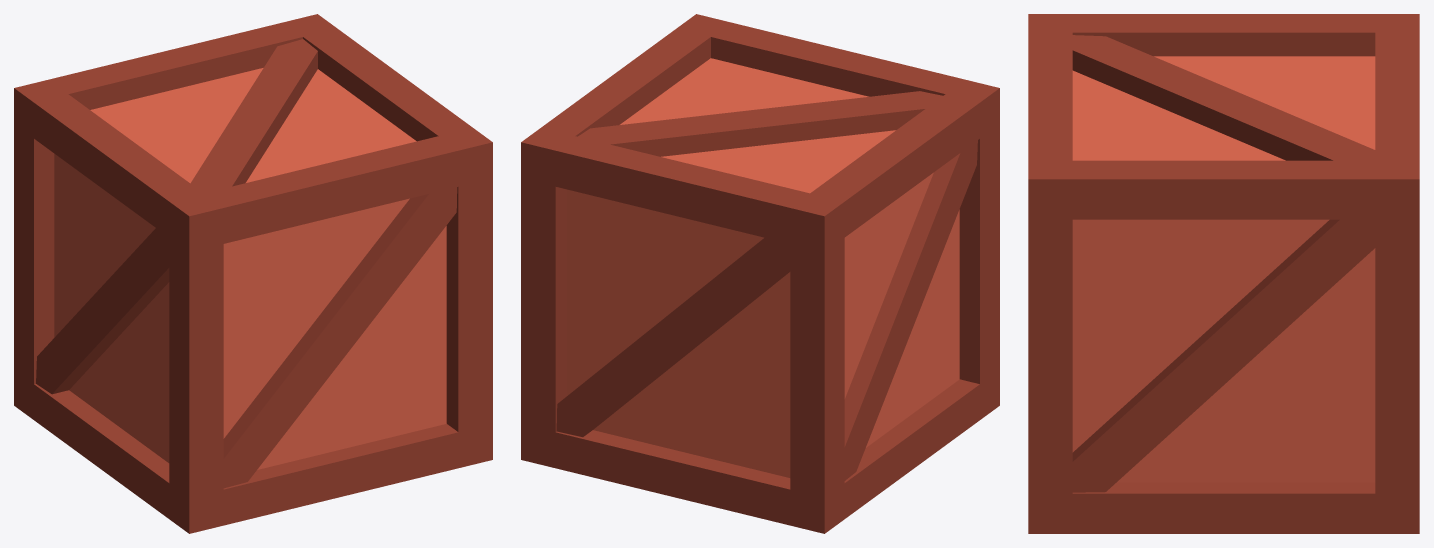
Rendered from Box_1_Red.fbx.
3 renders of one model, left to right at view 1: azimuth 30°, elevation 25°; view 2: azimuth 150°, elevation 25°; view 3: azimuth 270°, elevation 25°, orthographic. The views are drawn at different scales.
Visible parts, largest first — view 1: Box_1_Red_Part_1, Box_1_Red_Part_2; view 2: Box_1_Red_Part_1, Box_1_Red_Part_2; view 3: Box_1_Red_Part_1, Box_1_Red_Part_2.
Boxes of the visible parts, x1,y1,x2,y2 form: Box_1_Red_Part_1: (14, 14, 492, 533); Box_1_Red_Part_2: (54, 68, 446, 469); Box_1_Red_Part_1: (521, 14, 999, 533); Box_1_Red_Part_2: (567, 58, 959, 477); Box_1_Red_Part_1: (1028, 14, 1419, 533); Box_1_Red_Part_2: (1072, 56, 1375, 482).
Bounding box in the file's own units: 150 × 150 × 150.
